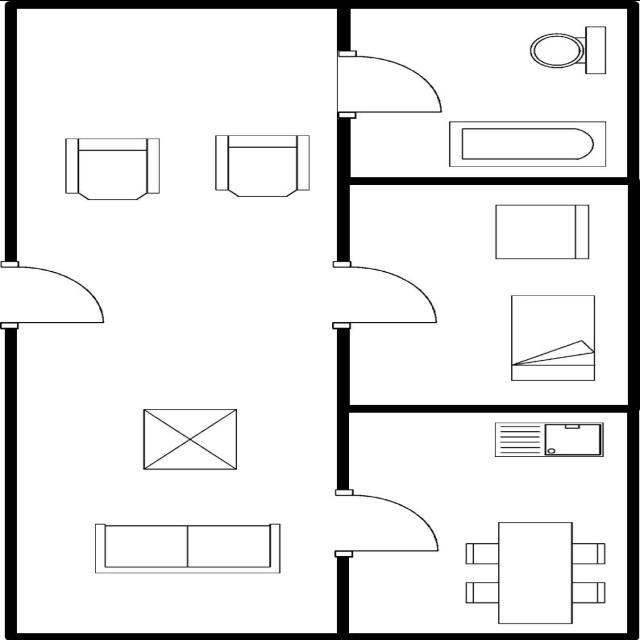armchair: (60, 134, 166, 202), (208, 132, 314, 198)
bed: (505, 290, 601, 386)
coffee_table: (134, 404, 243, 472)
dining_table: (459, 518, 611, 626)
large_sink: (522, 22, 612, 76)
large_sofa: (89, 518, 287, 576)
sink: (488, 419, 612, 461)
small_sofa: (490, 202, 598, 262)
tub: (440, 118, 612, 170)
